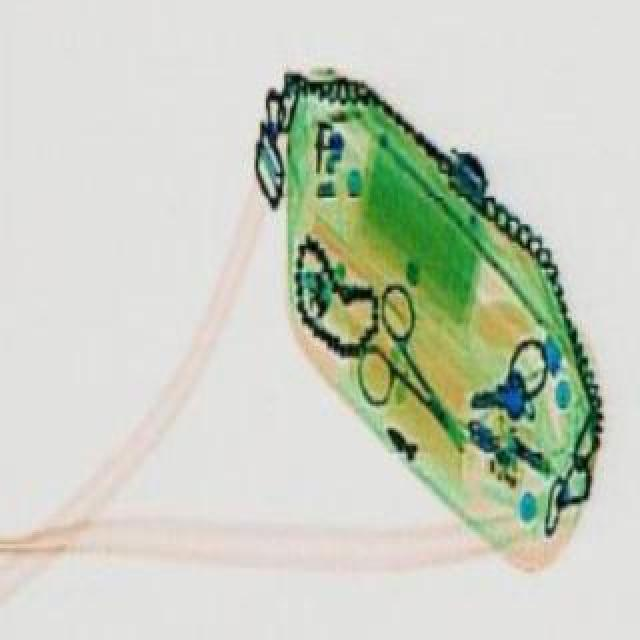pliers: (314, 272, 486, 446)
